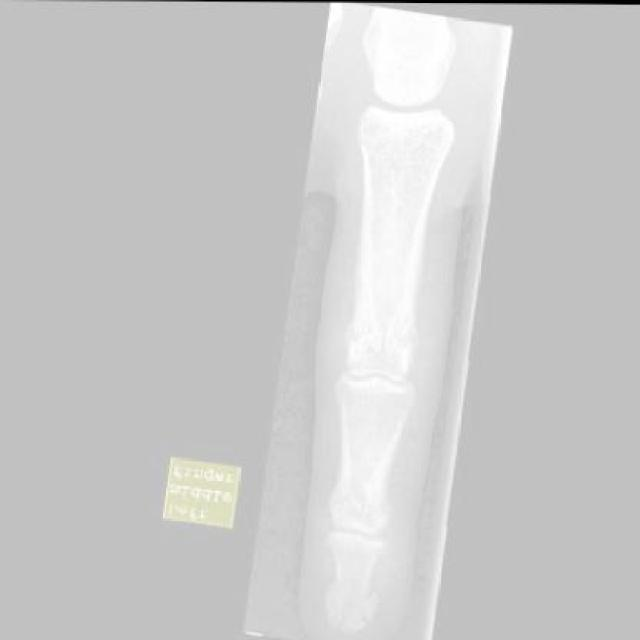Fracture: (309, 571, 380, 639)
